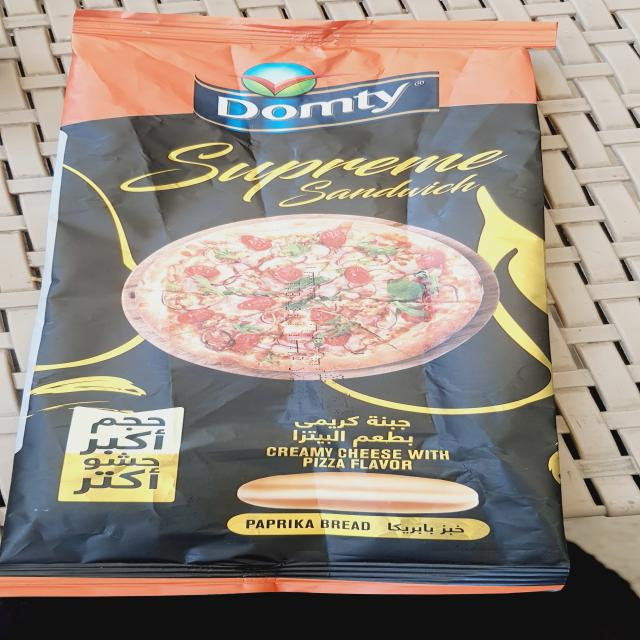Metal: (4, 8, 573, 596)
